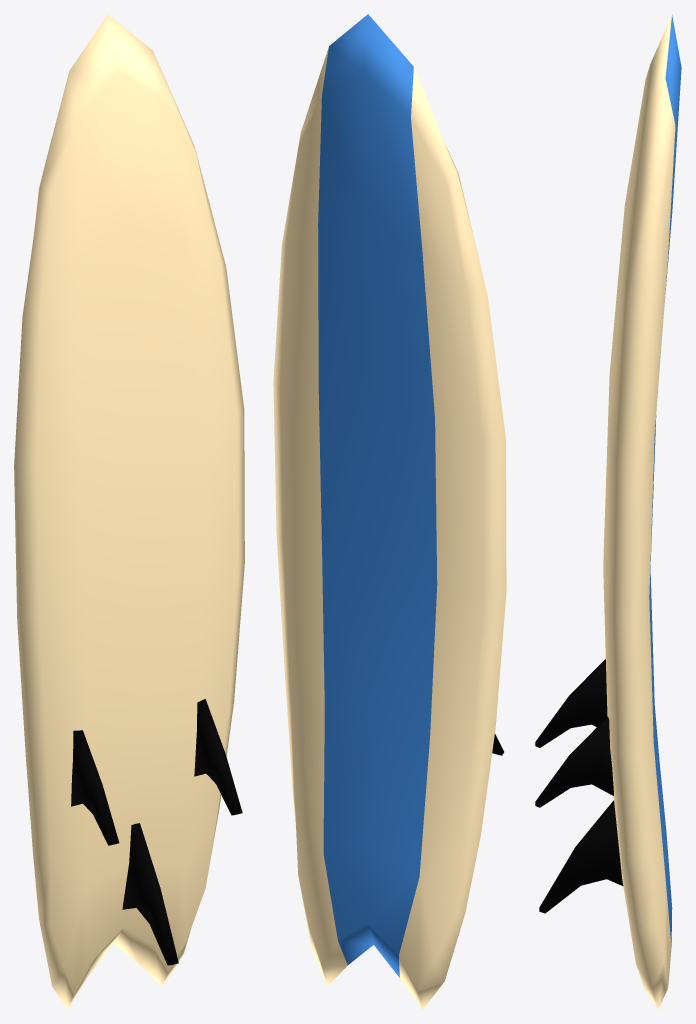
The model's file is SurfboardShortboard.glb.
The picture shows the model from 3 angles, left to right: view 1: azimuth 30°, elevation 25°; view 2: azimuth 150°, elevation 25°; view 3: azimuth 270°, elevation 25°; orthographic projection.
Parts seen in each view (by area): view 1: SurfboardShort; view 2: SurfboardShort; view 3: SurfboardShort.
Boxes of the visible parts, box(x1,y1,x2,y2) form: SurfboardShort: box(14, 14, 244, 1009); SurfboardShort: box(273, 14, 506, 1009); SurfboardShort: box(535, 14, 681, 1009).
Size of the model in its own units: 0.5604 by 2.28 by 0.3104.
1 material, 1 textured.
